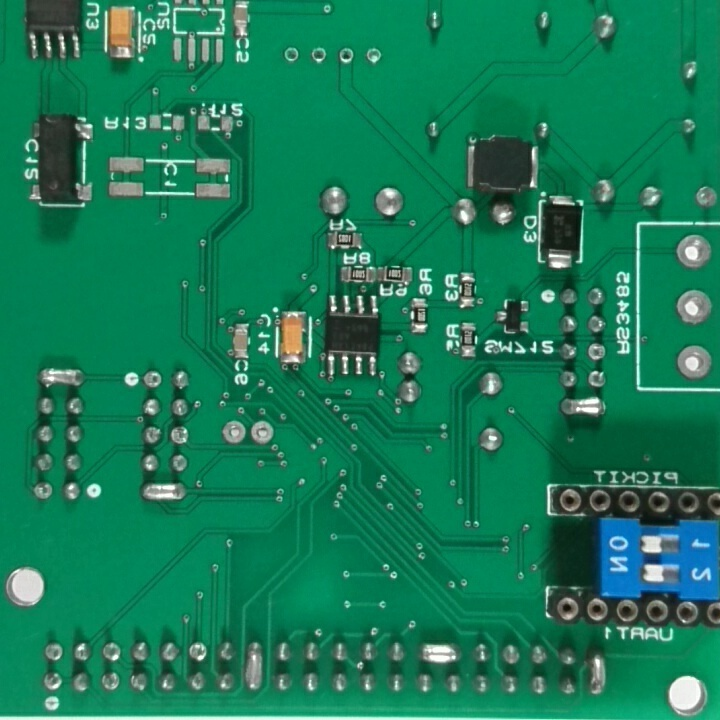F: (671, 287, 717, 325), (673, 341, 713, 383), (673, 231, 714, 271), (250, 415, 277, 448), (220, 417, 248, 448), (167, 423, 194, 450), (692, 182, 720, 208), (31, 479, 55, 505), (40, 667, 64, 692), (586, 339, 610, 364), (99, 669, 121, 696), (335, 43, 358, 68), (363, 45, 385, 70), (187, 640, 208, 665), (140, 369, 164, 390), (280, 44, 301, 66), (309, 43, 329, 66)
P: (556, 392, 611, 423), (240, 639, 266, 693), (36, 363, 87, 390), (138, 479, 188, 504), (418, 641, 460, 666), (588, 652, 610, 698)
